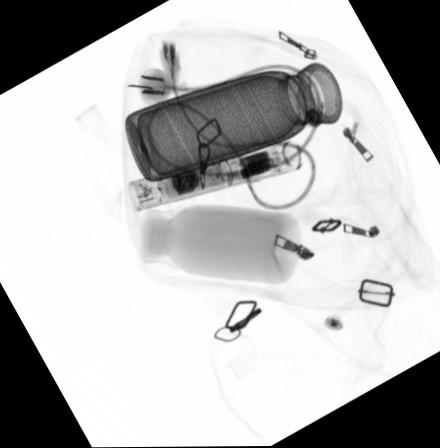Baton: (124, 137, 307, 213)
